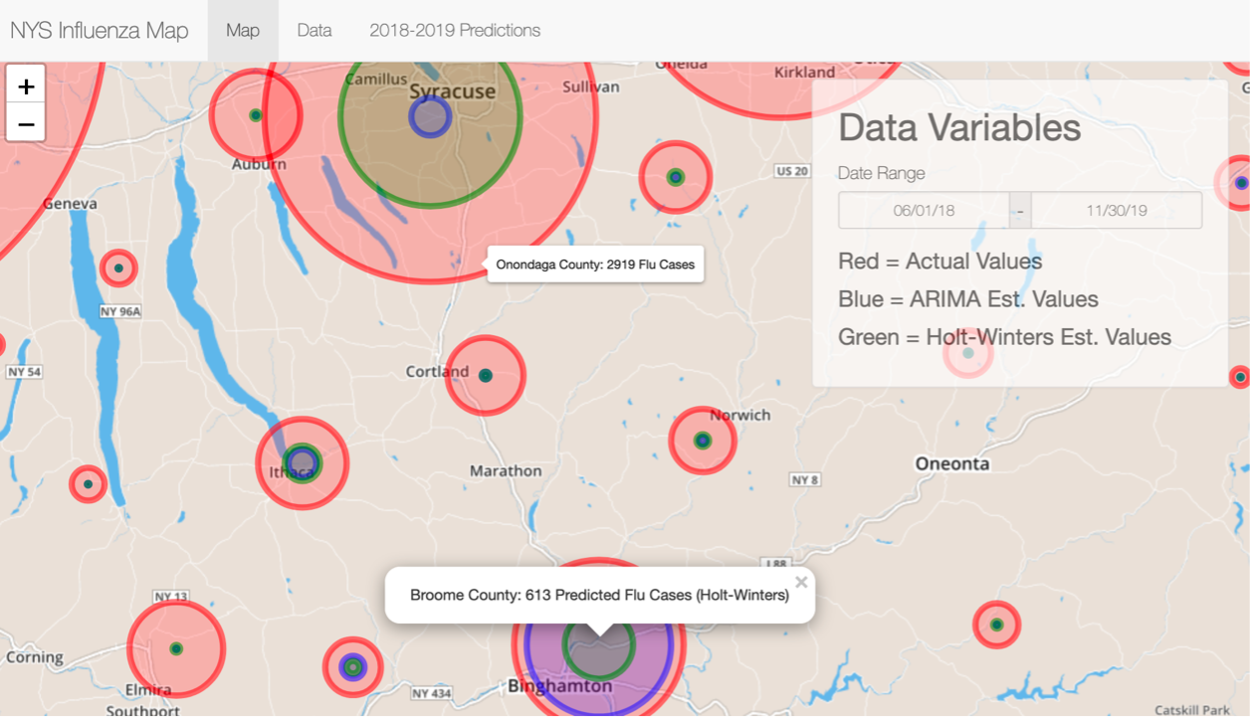

This screenshot's page, from the dashboard's own definition file:
{"tool":"powerbi","page":{"name":"Page 1","canvas":[1920,1080],"ordinal":0},"visuals":[{"type":"slicer","fields":{"Values":["Date.Date"]},"box":[1598.4,142.6,280.4,201.2],"z":0},{"type":"map","fields":{"Series":["map_data.model"],"Size":["Sum(map_data.cases)"],"X":["location.longitude"],"Y":["location.latitude"]},"box":[0,0,1581,1080.4],"z":1}]}

Visuals, with their boxes on the page's 1920x1080 design canvas (x1, y1, x2, y2). These are canvas units, not pixel positions in the 1252x721 screenshot, which may show the page scaled, cropped or inside an application window:
slicer - Date.Date: 1598 143 1879 344
map - map_data.model x Sum(map_data.cases): 0 0 1581 1080
